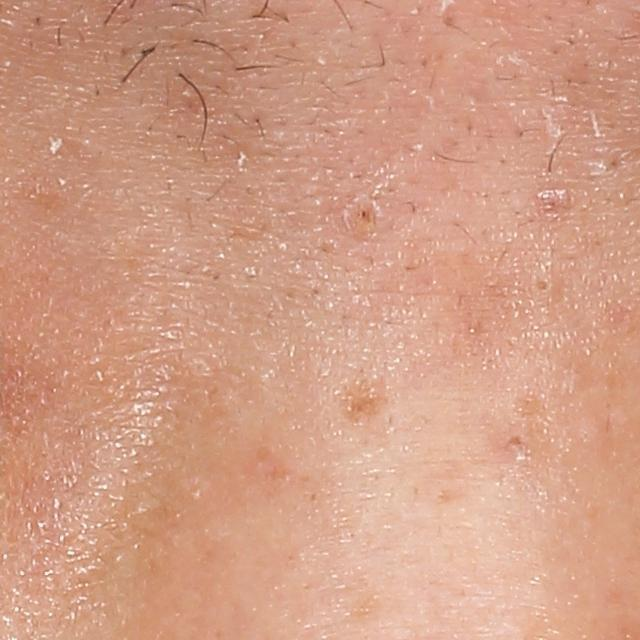comedo: (528, 271, 558, 306)
melasma: (327, 368, 387, 427)
